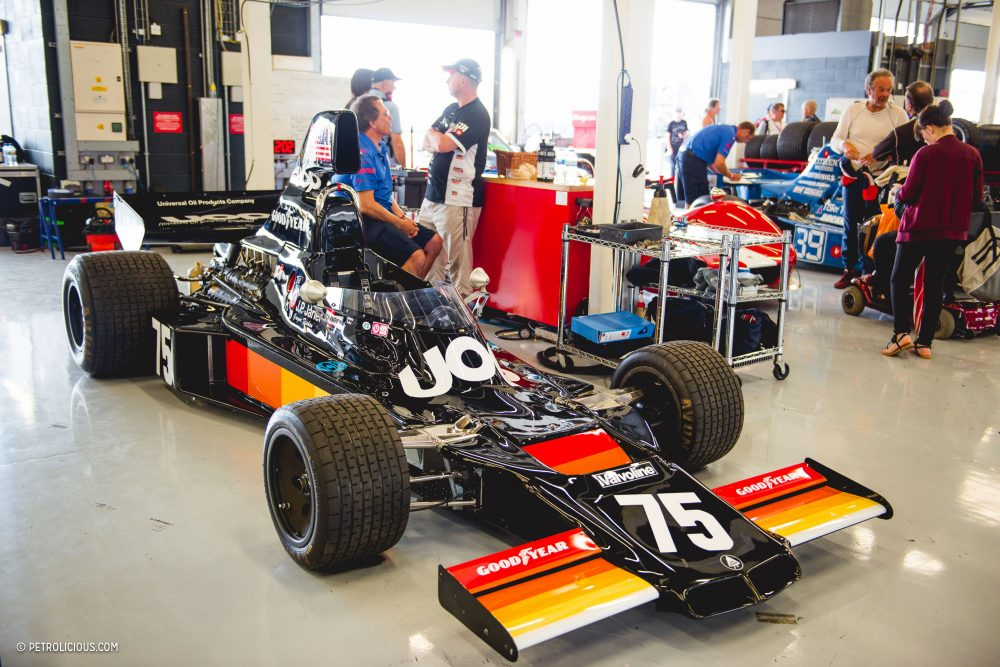f1_car: (47, 100, 910, 662)
